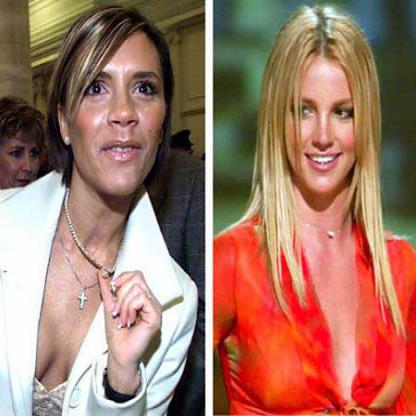face: (67, 11, 170, 198), (280, 24, 369, 195), (1, 113, 44, 202)
